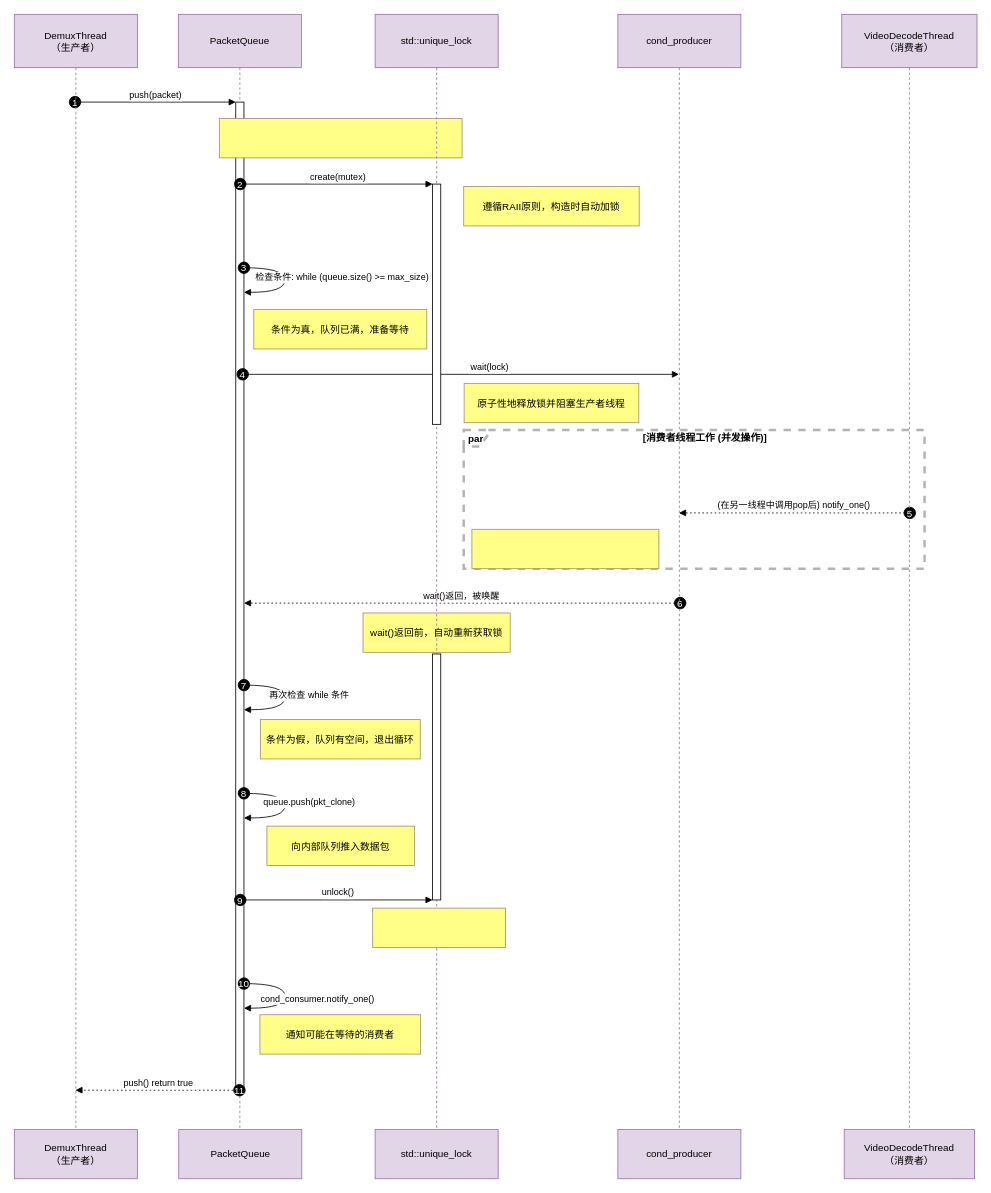
This 991x1193 diagram has some shape labels left out. The shapes that lost their labels are listed below. From the top down, each one's centre as x and y in pixels, then its label:
At pixel 340 138: "进入 push() 函数作用域".
At pixel 565 548: "消费了一个元素，唤醒生产者".
At pixel 439 927: "提前解锁，减小锁粒度".
